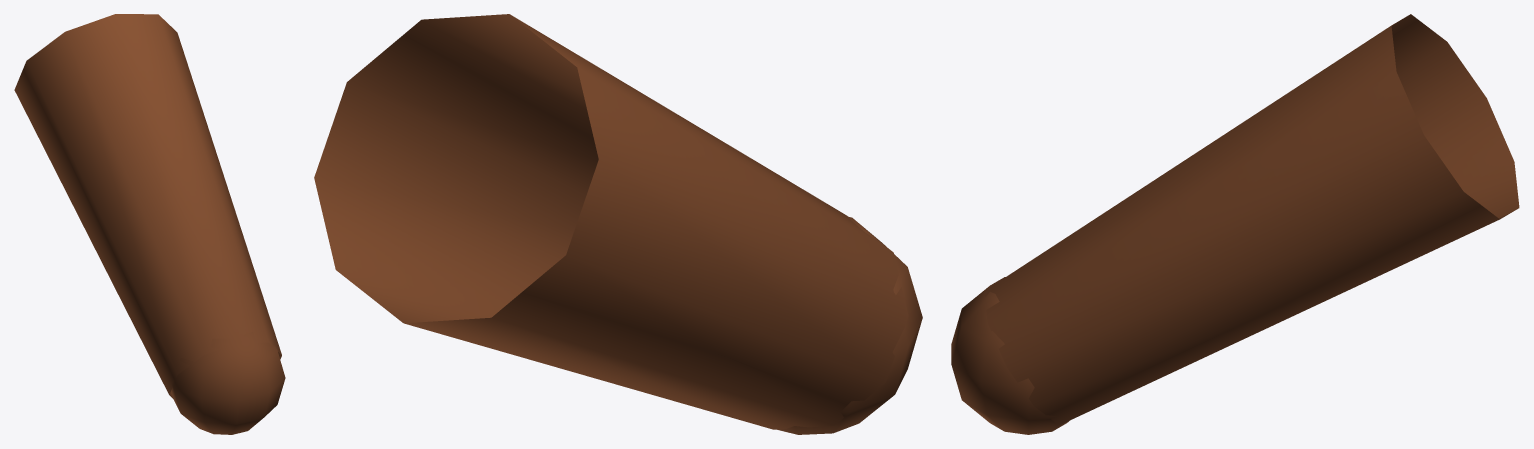
File: Risu_Limb2L.fbx
3 views of the same model, side by side, from view 1: azimuth 30°, elevation 25°; view 2: azimuth 150°, elevation 25°; view 3: azimuth 270°, elevation 25° (orthographic). The views are drawn at different scales.
Parts seen in each view (by area): view 1: Risu_Limb2L; view 2: Risu_Limb2L; view 3: Risu_Limb2L.
Part boxes in pixels (x1,y1,x2,y2): Risu_Limb2L: (14,14,285,434); Risu_Limb2L: (314,14,922,434); Risu_Limb2L: (951,14,1519,434).
Bounding box in the file's own units: 0.5305 × 1.03 × 1.26.
